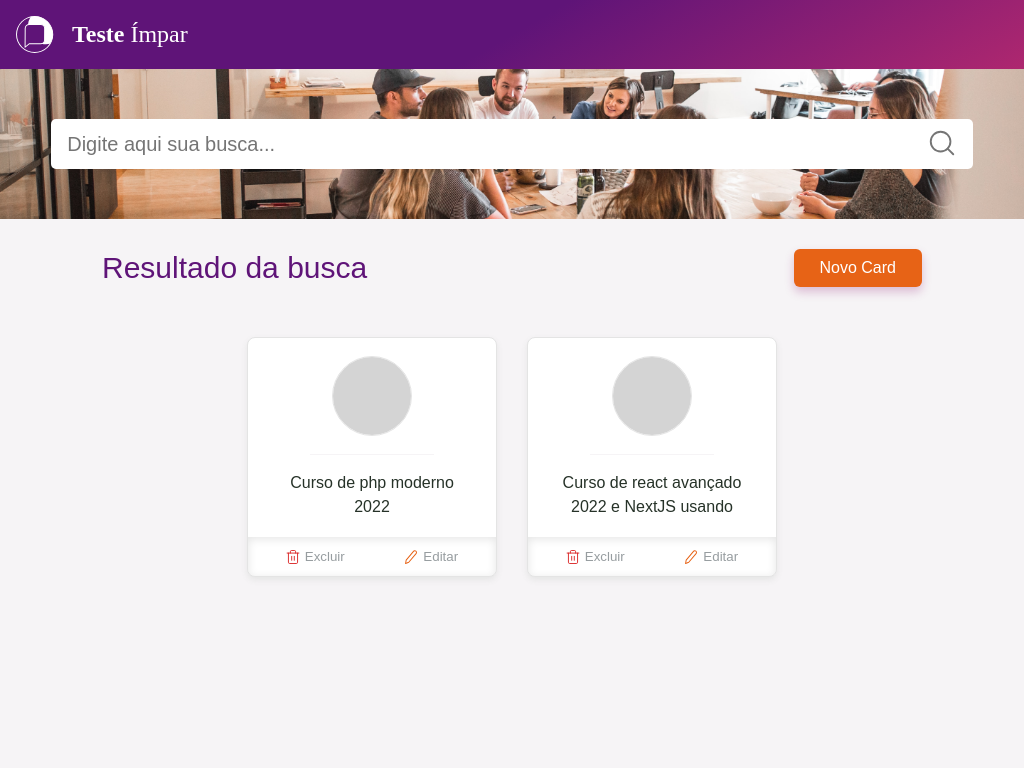
Test: Home page › should not appear a car when filter
The width and height of the screenshot is (1024, 768).
Type "abobrinha" into the field with test id "input-search" at x=497, y=144, box 67,127 -> 927,161
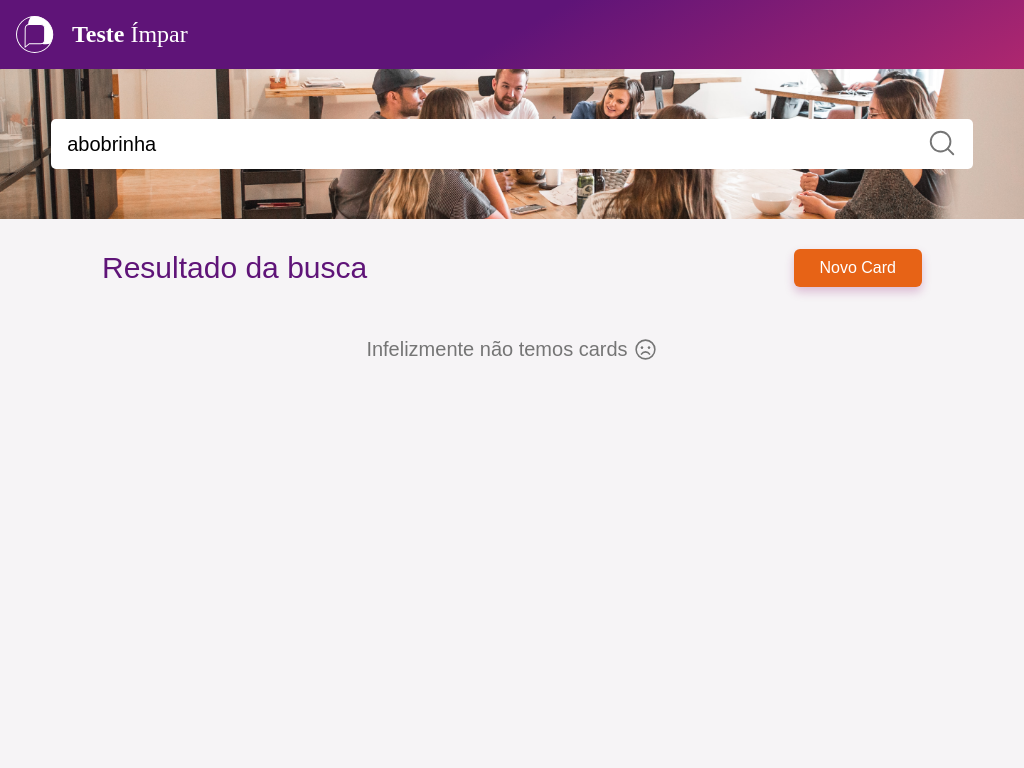
Expected: the element with test id "card" is gone
